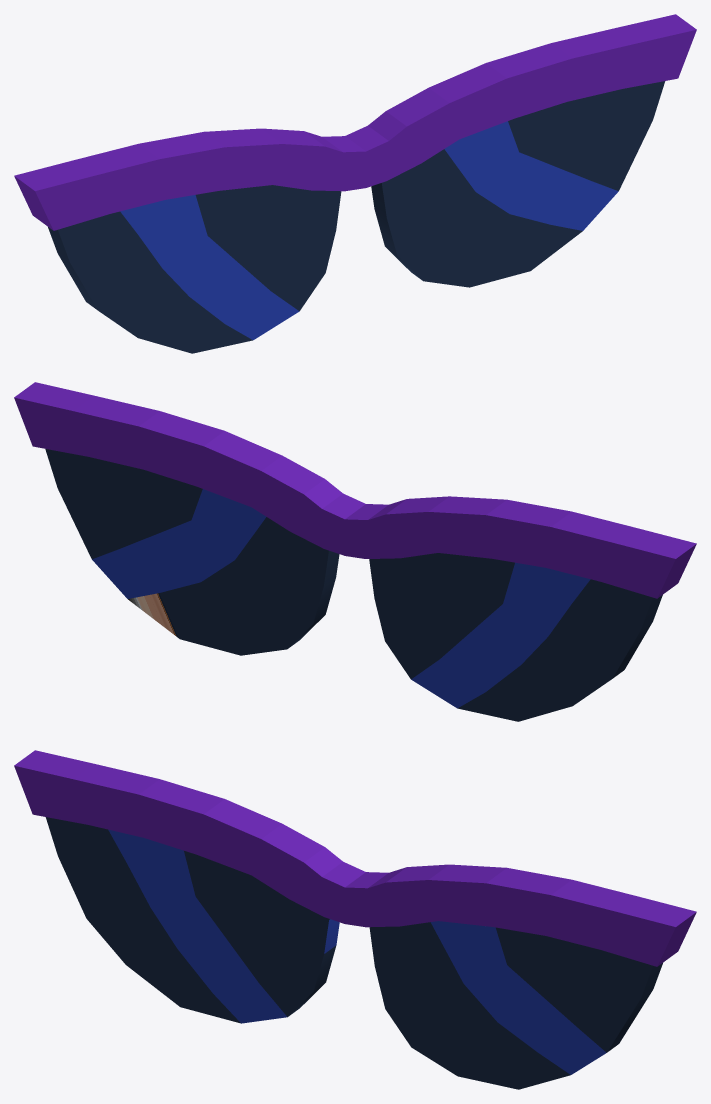
The model's file is Eyewear_9.fbx.
3 views of the same model, one above another, from view 1: azimuth 30°, elevation 25°; view 2: azimuth 150°, elevation 25°; view 3: azimuth 330°, elevation 25° (orthographic).
Parts seen in each view (by area): view 1: Eyewear_9; view 2: Eyewear_9; view 3: Eyewear_9.
Part boxes in pixels (left/top/right/bottom): Eyewear_9: left=14, top=14, right=696, bottom=353; Eyewear_9: left=14, top=382, right=696, bottom=721; Eyewear_9: left=14, top=750, right=696, bottom=1089.
Bounding box in the file's own units: 54.37 × 16.36 × 3.
